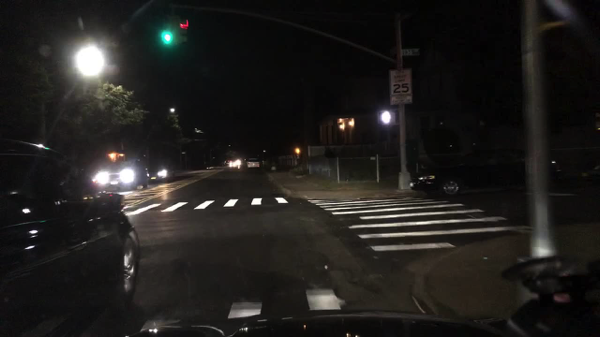car: (1, 138, 141, 328), (410, 147, 564, 198), (93, 160, 147, 189), (146, 160, 174, 182), (246, 157, 260, 170), (228, 159, 242, 170), (206, 166, 216, 169)
traffic light: (175, 14, 189, 45), (163, 18, 175, 44), (378, 110, 395, 126)
traffic sign: (389, 68, 411, 106), (403, 47, 418, 55)
